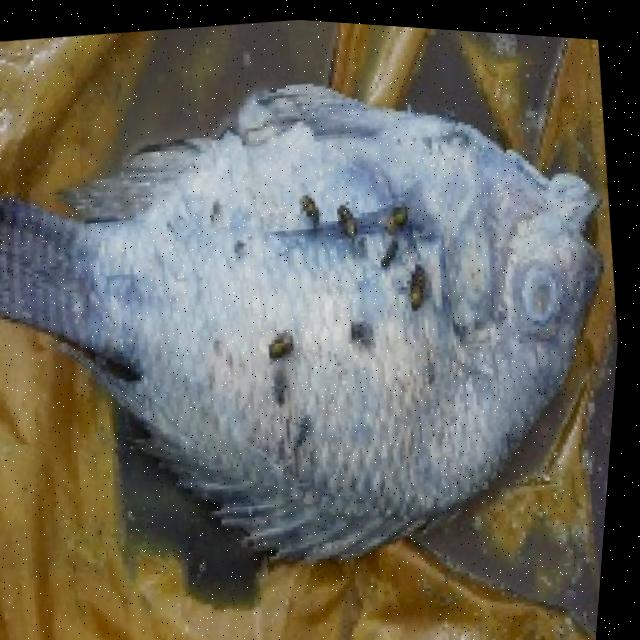Non-Fresh: (0, 4, 640, 593), (504, 238, 584, 335)
